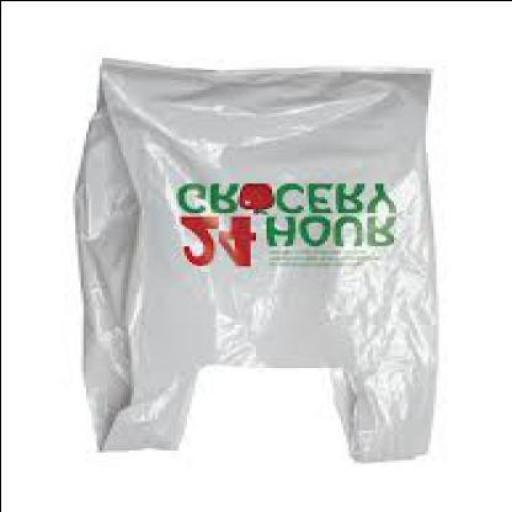plastic: (71, 62, 436, 462)
